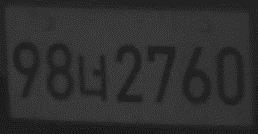0: (216, 46, 245, 105)
2: (116, 44, 144, 104)
6: (182, 45, 212, 104)
7: (147, 44, 177, 101)
8: (45, 42, 73, 99)
9: (12, 41, 41, 99)
너: (78, 53, 108, 103)
